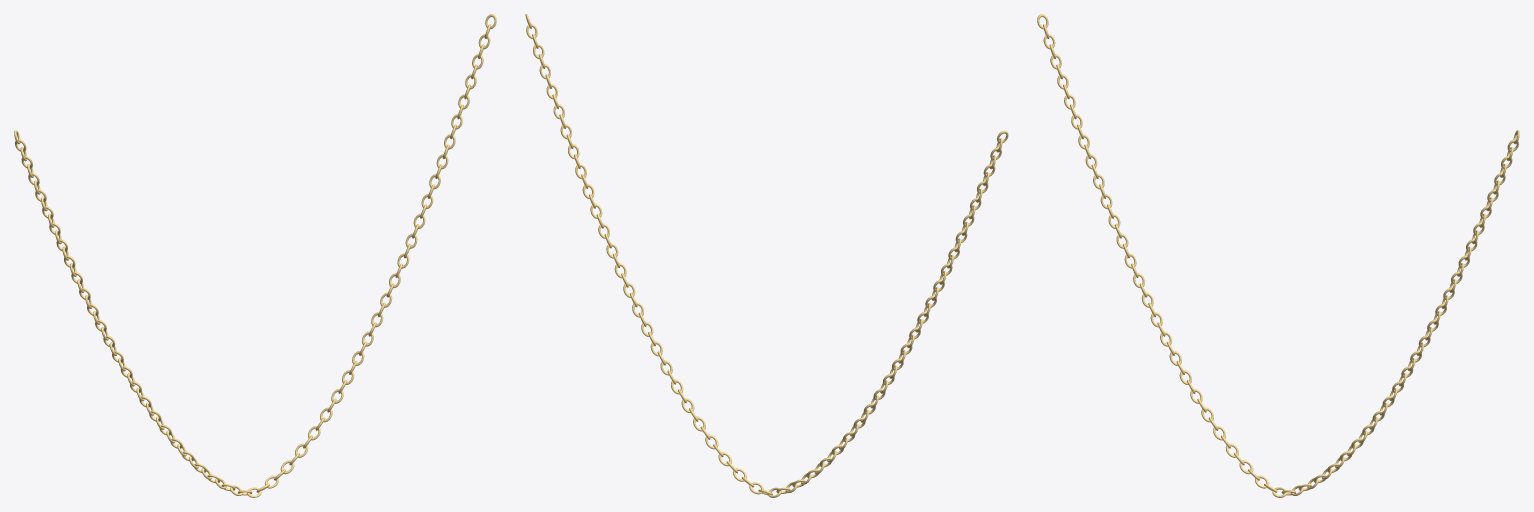
The model's file is curb-chain-necklace.glb.
The picture shows the model from 3 angles, left to right: view 1: azimuth 30°, elevation 25°; view 2: azimuth 150°, elevation 25°; view 3: azimuth 330°, elevation 25°; orthographic projection.
Bounding box in the file's own units: 0.3664 × 0.3077 × 0.00628.
